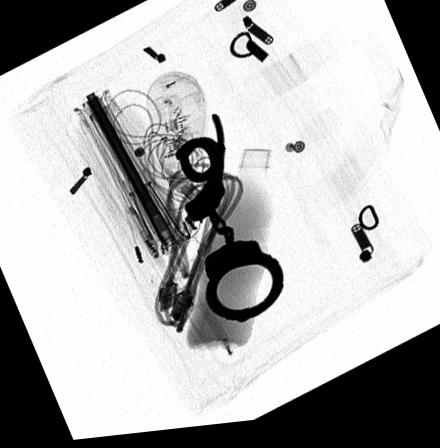HandCuffs: (174, 119, 282, 330)
